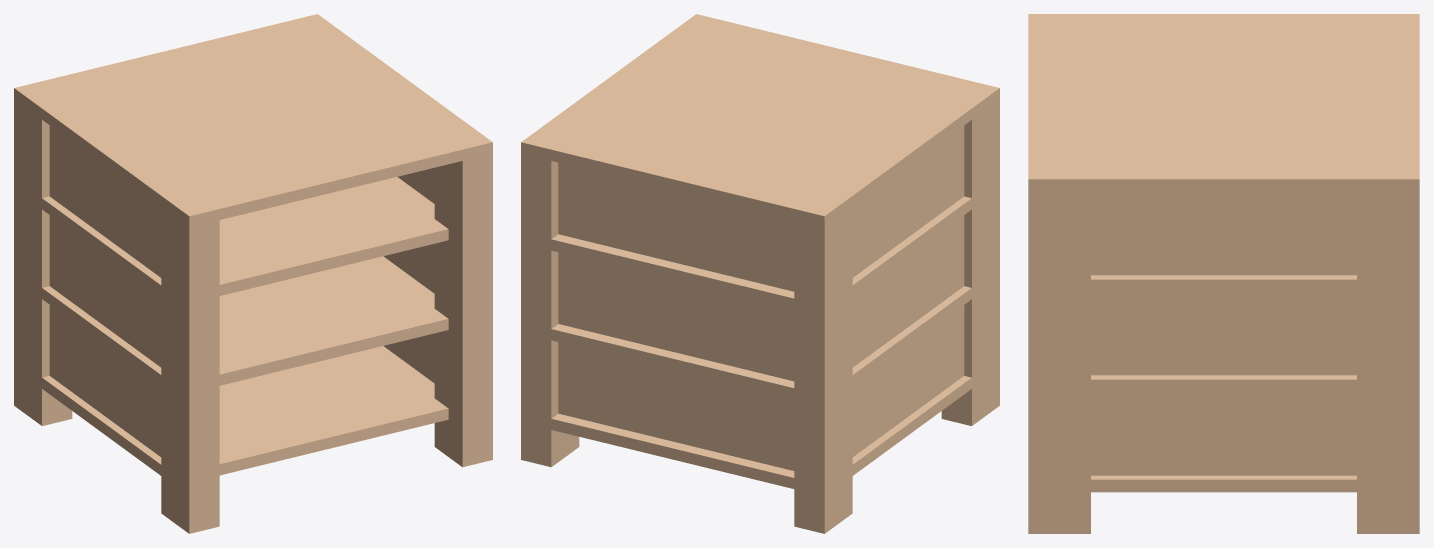
File: kn-bookcase-closed.glb
3 views of the same model, side by side, from view 1: azimuth 30°, elevation 25°; view 2: azimuth 150°, elevation 25°; view 3: azimuth 270°, elevation 25° (orthographic). The views are drawn at different scales.
Visible parts, largest first — view 1: bookcaseClosed(Clone); view 2: bookcaseClosed(Clone); view 3: bookcaseClosed(Clone).
Part boxes in pixels (box(x1,y1,x2,y2)): bookcaseClosed(Clone): box(14, 14, 492, 533); bookcaseClosed(Clone): box(521, 14, 999, 533); bookcaseClosed(Clone): box(1028, 14, 1419, 533).
Size of the model in its own units: 1 by 1 by 1.
